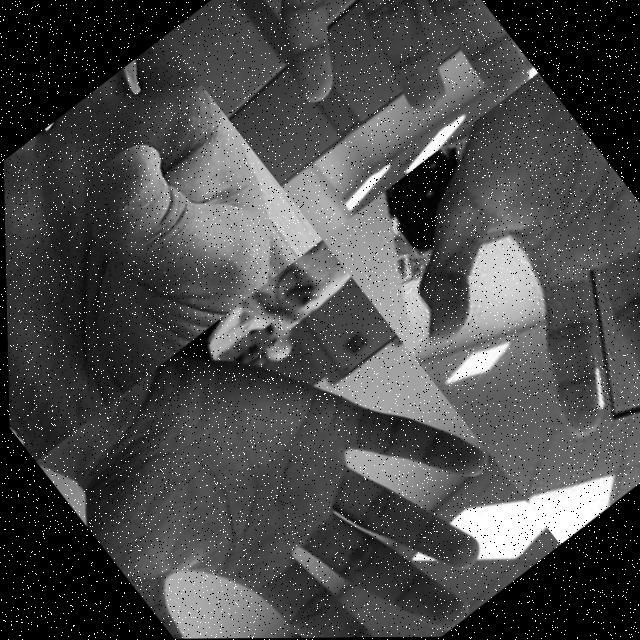no-gloves: (44, 258, 558, 640), (1, 35, 325, 461), (336, 72, 640, 511), (213, 0, 541, 203)
